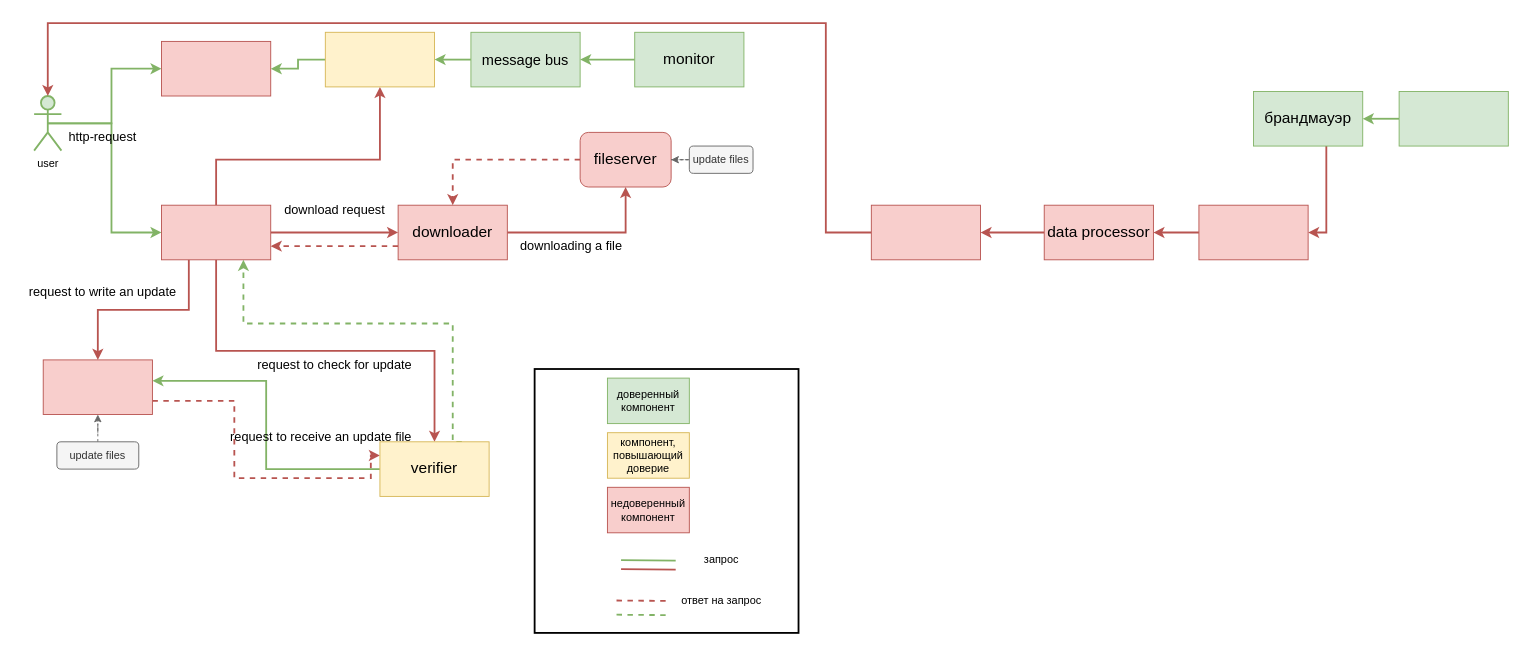
This 1524x649 diagram has some shape labels left out. The shapes that lost their labels are listed below. From the top down, each one's centre as x and y in pixels, then its label:
(216,68): app
(379,59): update
(1453,118): device
(216,232): manager
(925,232): data output
(1253,232): data input
(97,387): storage
